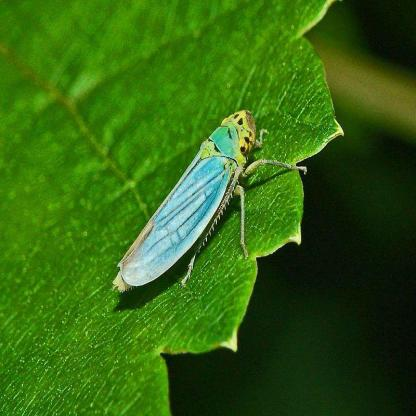Green-Leafhopper: (113, 109, 309, 304)
